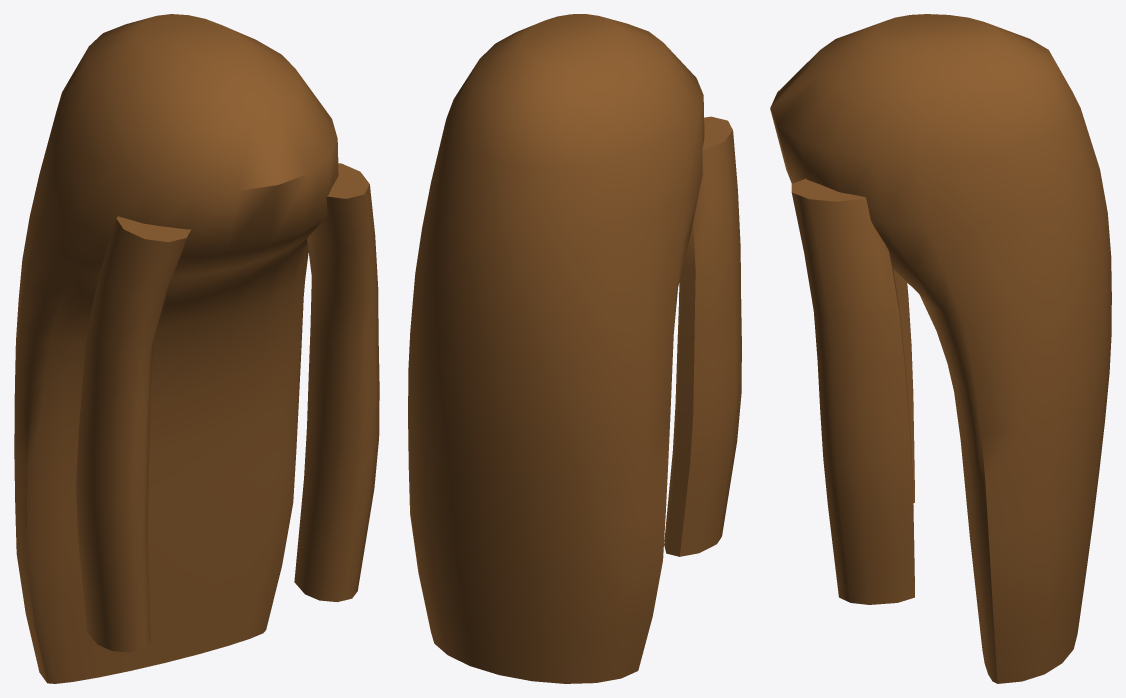
The model's file is npc_hair5.glb.
3 renders of one model, left to right at view 1: azimuth 30°, elevation 25°; view 2: azimuth 150°, elevation 25°; view 3: azimuth 270°, elevation 25°, orthographic. The views are drawn at different scales.
Parts seen in each view (by area): view 1: npc_hair5; view 2: npc_hair5; view 3: npc_hair5.
Part boxes in pixels (x1,y1,x2,y2): npc_hair5: (14,14,379,683); npc_hair5: (408,14,741,683); npc_hair5: (770,14,1111,683).
Bounding box in the file's own units: 0.192 × 0.414 × 0.2134.
